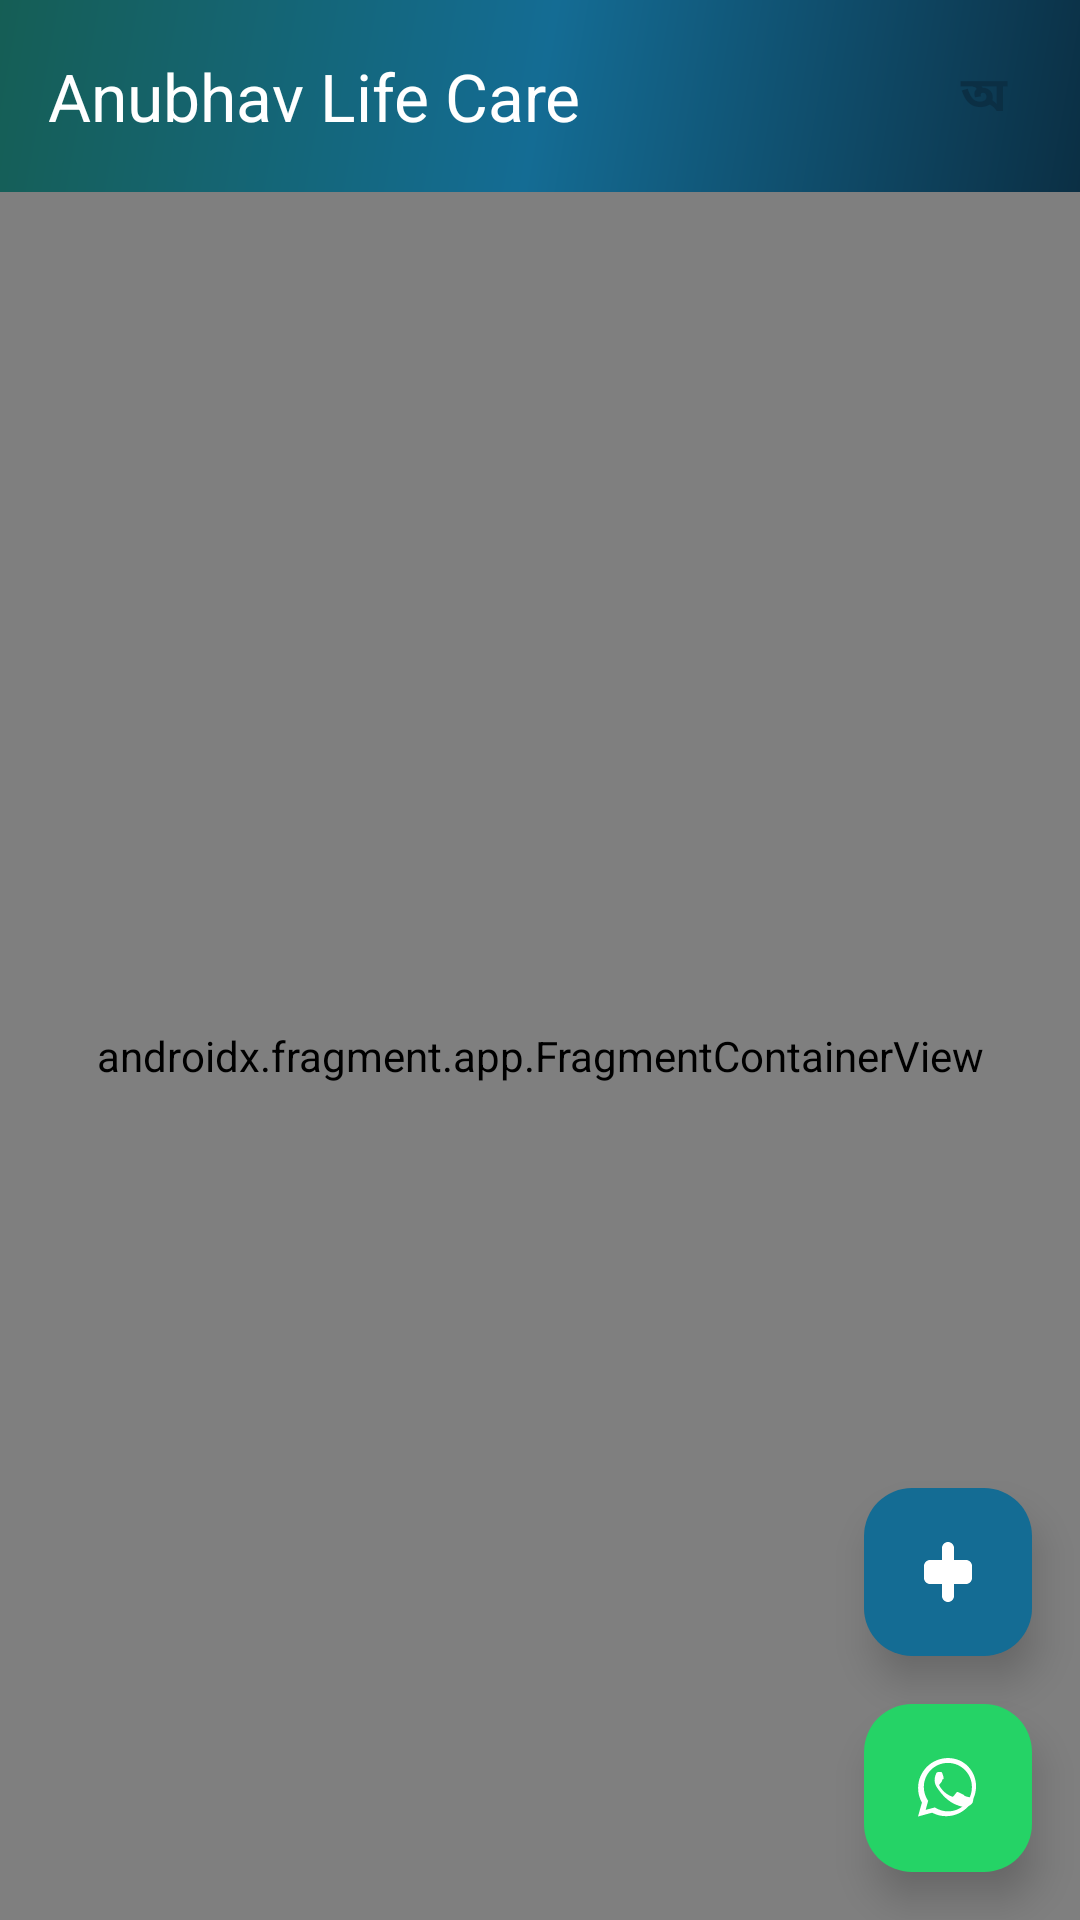

Icons on this 1080 × 1920 Android screen, each with its box as [x1, y1, x2, y2]:
Book Appointment: [864, 1488, 1032, 1656]
